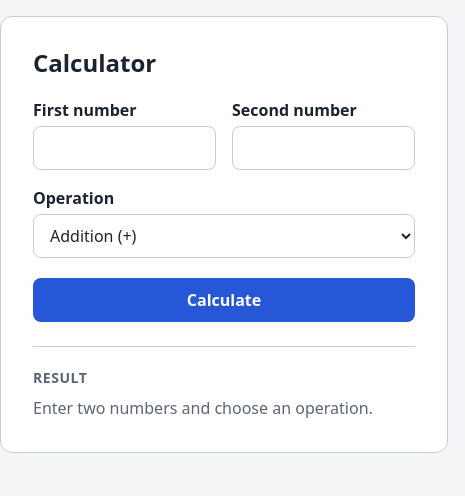
Test case: Calculator › request failures › shows the backend message for a validation error, as an alert
Type "1" into the field labelled "First number".
click(124, 148); type("1")  # box [33,126,216,170]
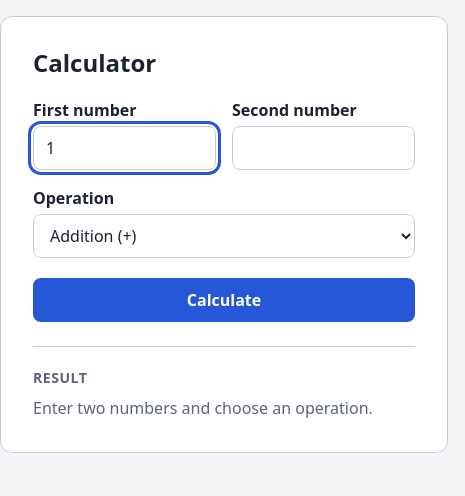
Type "2" into the field labelled "Second number".
click(324, 148); type("2")  # box [232,126,415,170]
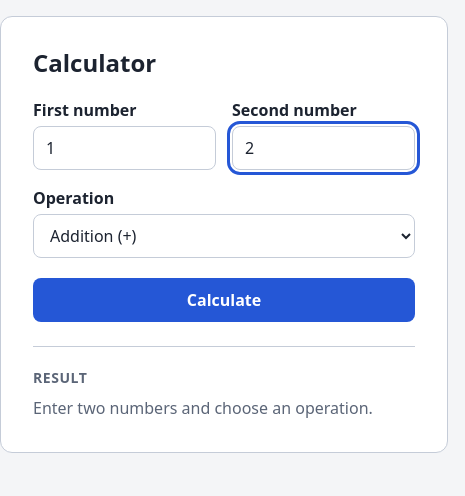
Click the button "Calculate".
click(224, 300)  # box [33,278,415,322]
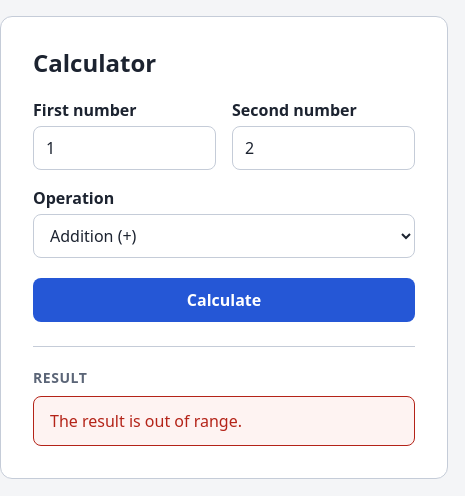
Now the message reads "The result is out of range.", box [50,410,242,432]
